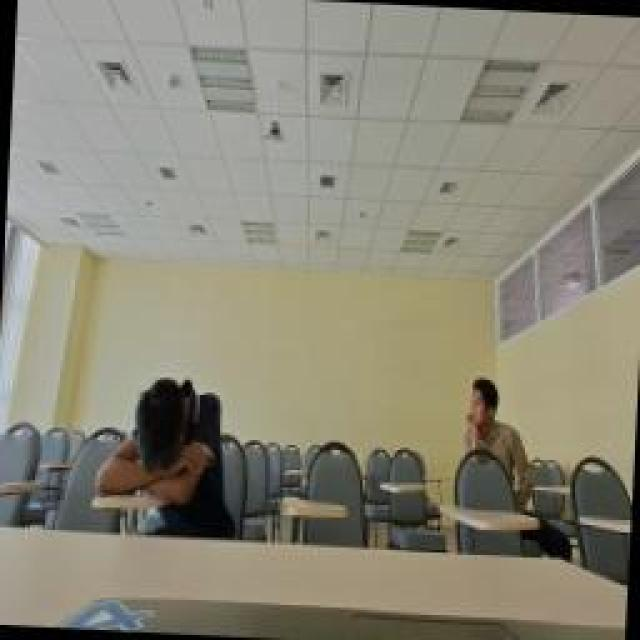sleep: (90, 370, 240, 545)
study: (450, 368, 525, 508)
